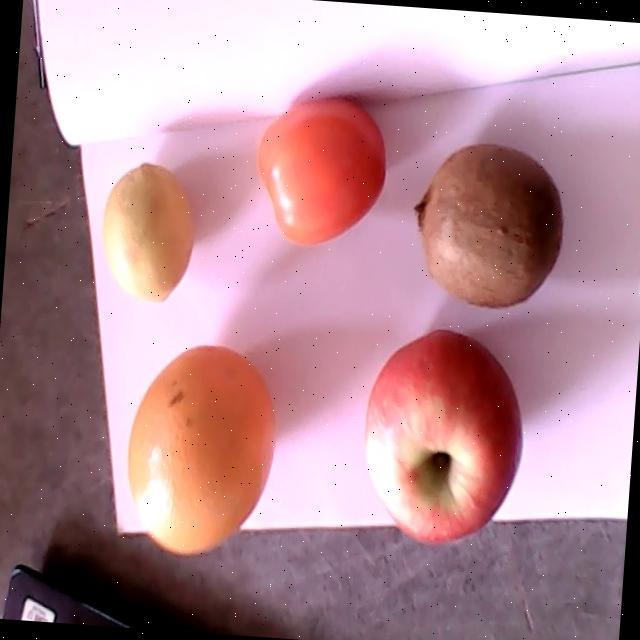apple: (363, 327, 521, 542)
kiwi: (412, 143, 561, 306)
lemon: (101, 162, 192, 301)
orange: (126, 344, 275, 555)
tomato: (257, 96, 385, 245)
